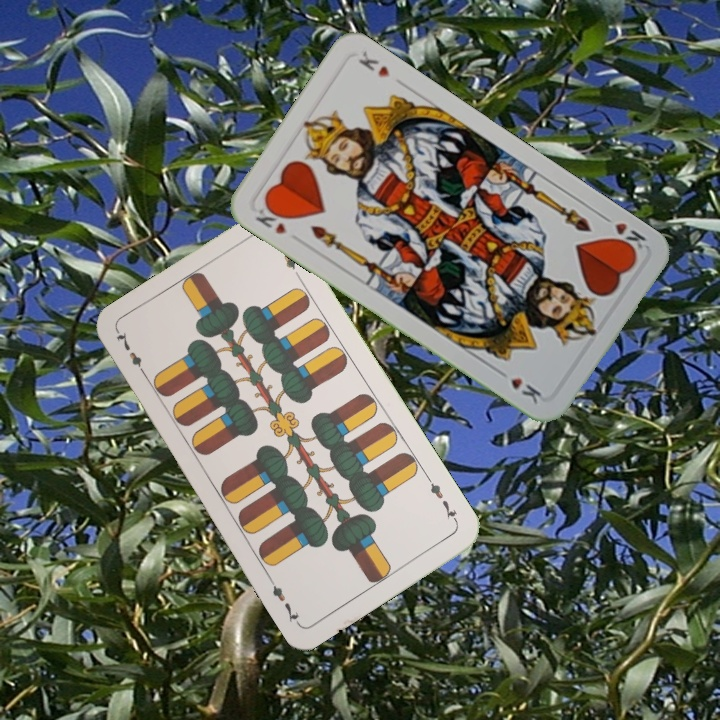E7: (423, 473, 461, 526), (112, 328, 150, 381)
HK: (596, 210, 649, 257), (251, 200, 291, 237)
